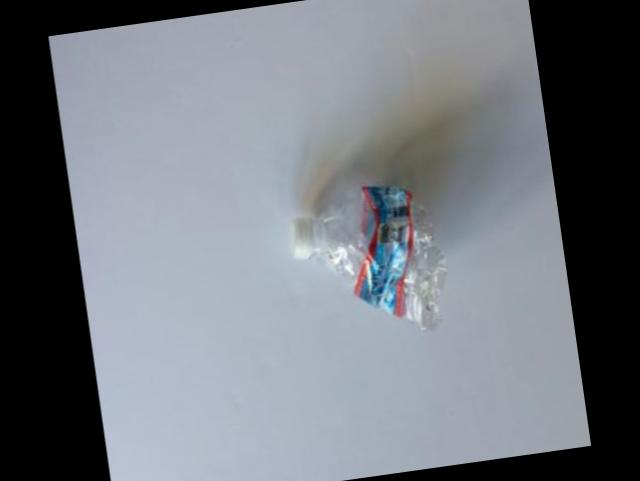plastic: (288, 187, 444, 330)
